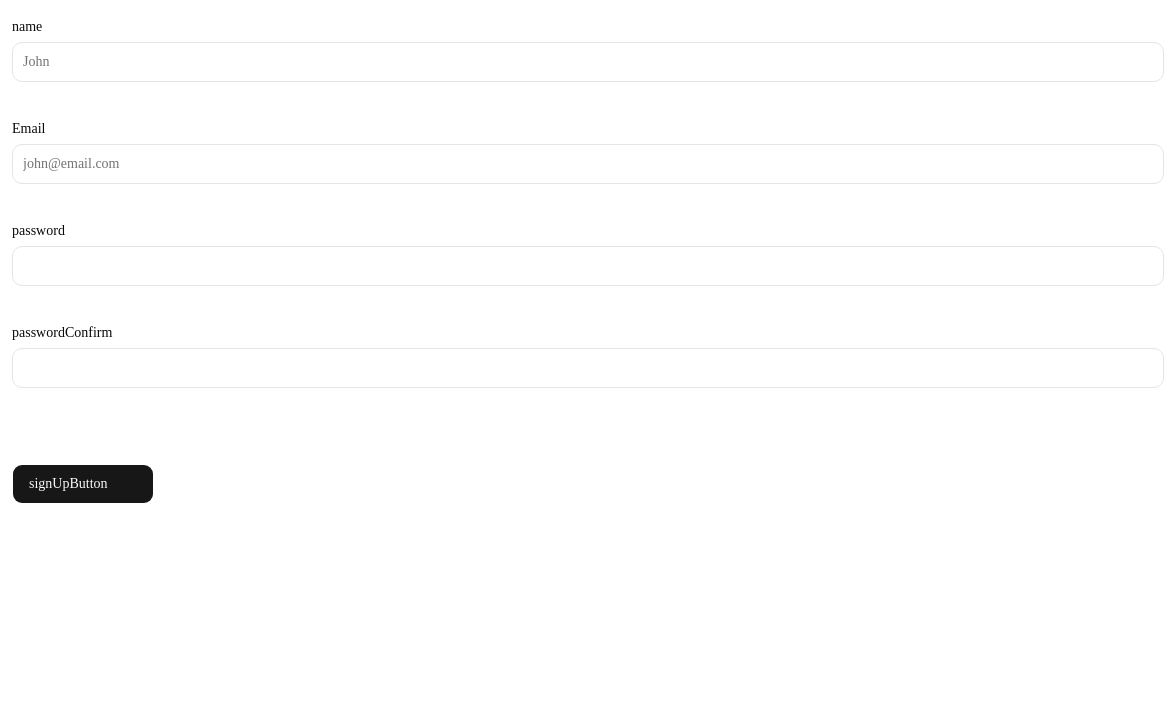
Test: SignUpForm › server submission › clears a previous server error once resubmitted
Type "Ada" into the field with placeholder "John" at x=588, y=62, box [12, 42, 1164, 82]
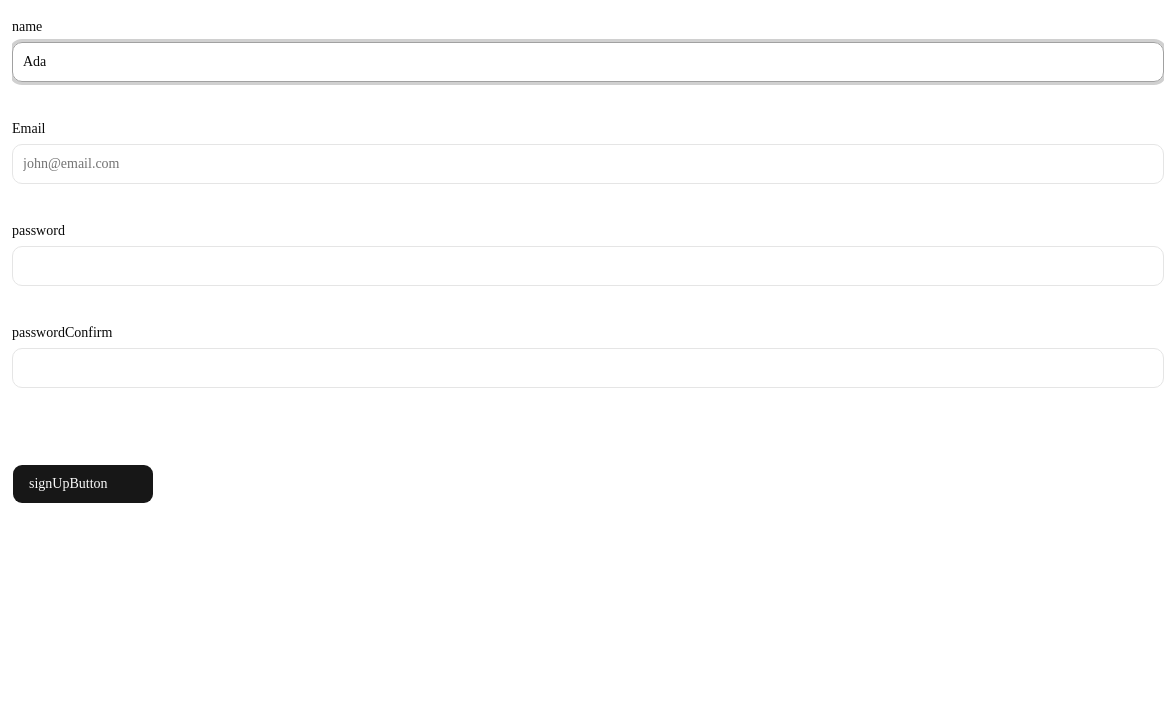
Type "ada@example.com" into the field with placeholder "john@email.com" at x=588, y=164, box [12, 144, 1164, 184]
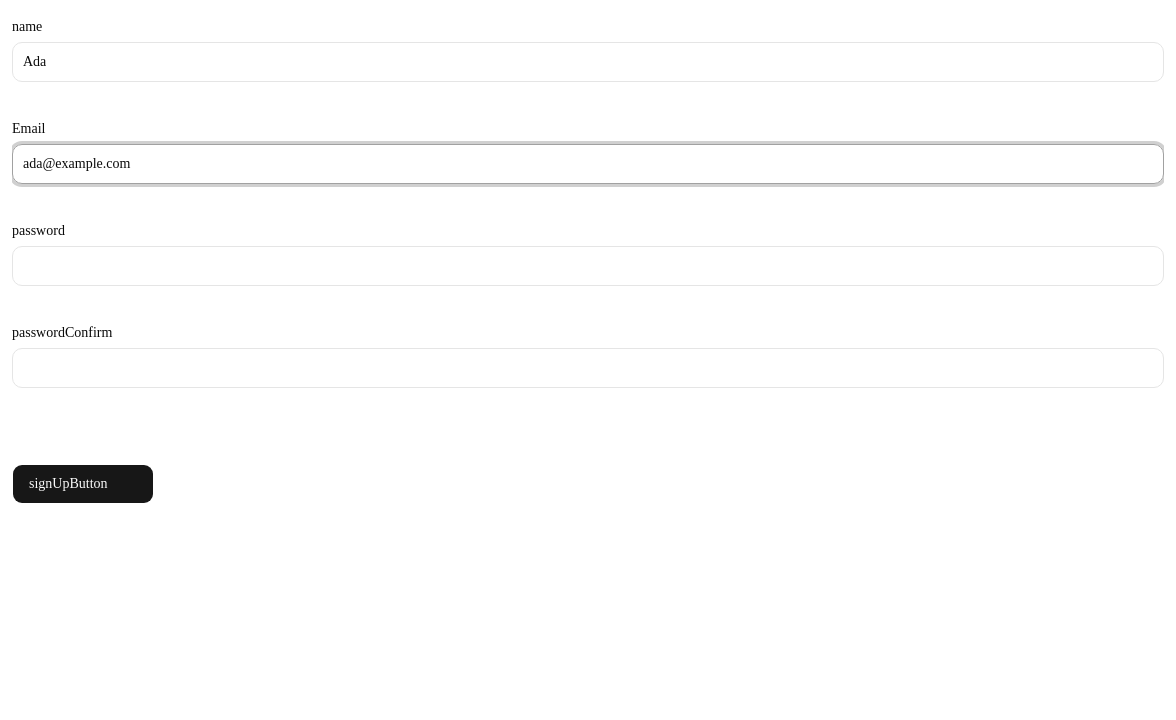
Type "Password1!" into the password field labelled "password" at x=588, y=266, box [12, 246, 1164, 286]
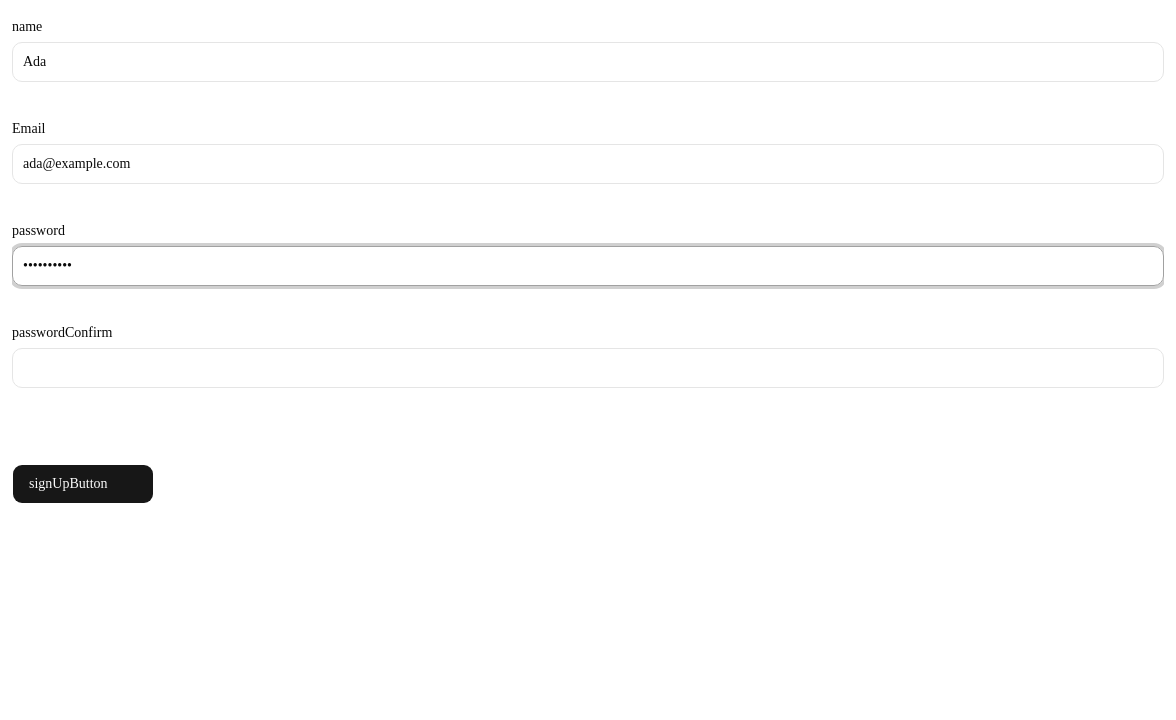
Type "Password1!" into the password field labelled "passwordConfirm" at x=588, y=368, box [12, 348, 1164, 388]
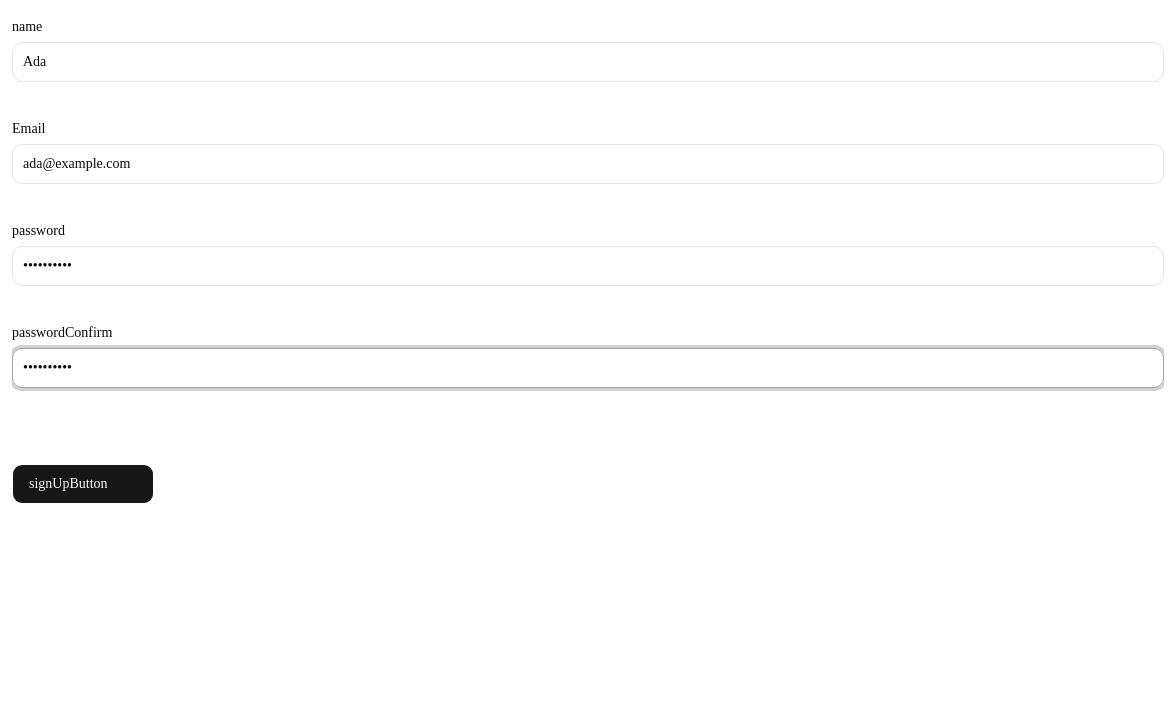
Click the button "signUpButton" at x=83, y=484, box [12, 464, 154, 504]
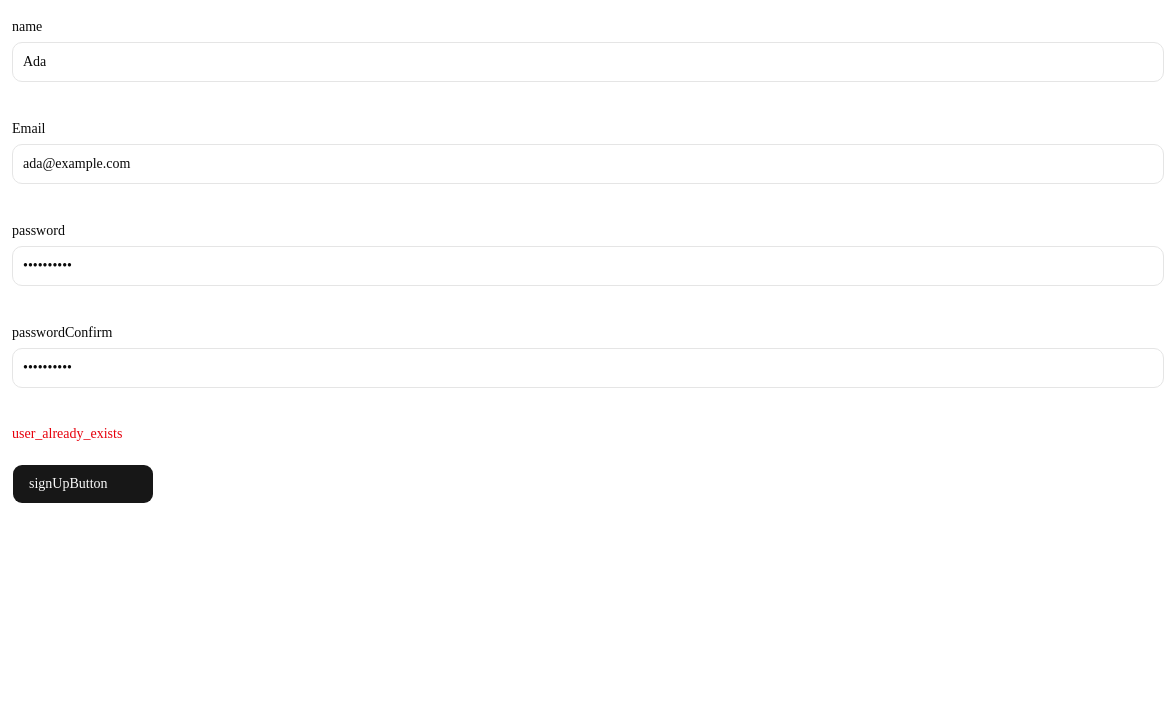
Now the message "user_already_exists" is shown, box [12, 426, 122, 441]
Click the button "signUpButton" at x=83, y=484, box [12, 464, 154, 504]
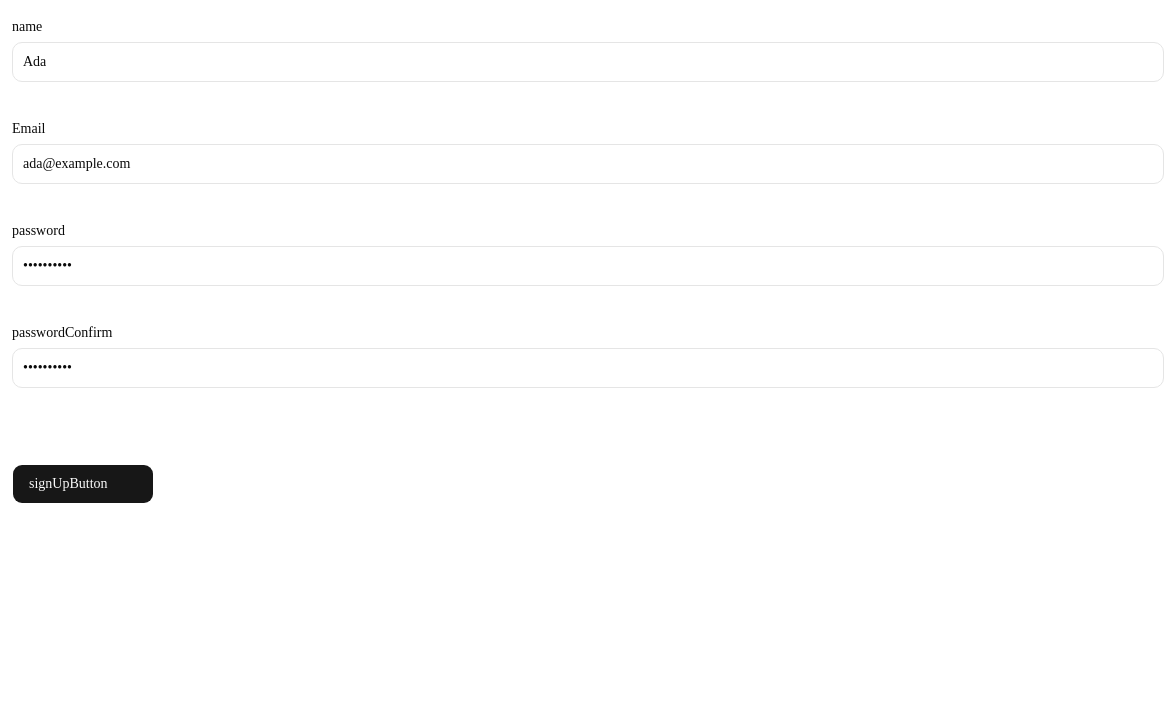
Now the message "user_already_exists" is gone
